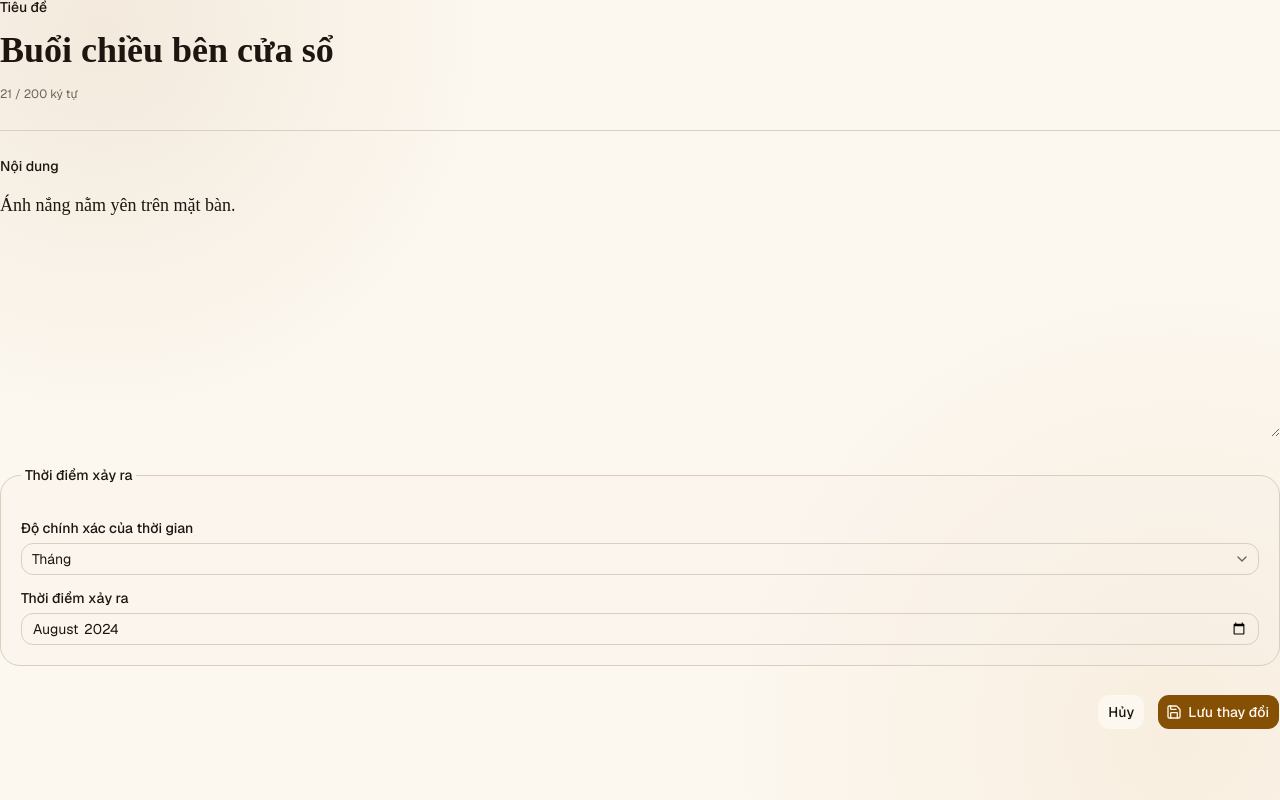
Test: MemoryEditor › loads the latest revision without relying on router refresh
Click the button "Lưu thay đổi" at (1219, 712), box [1157,694,1279,730]
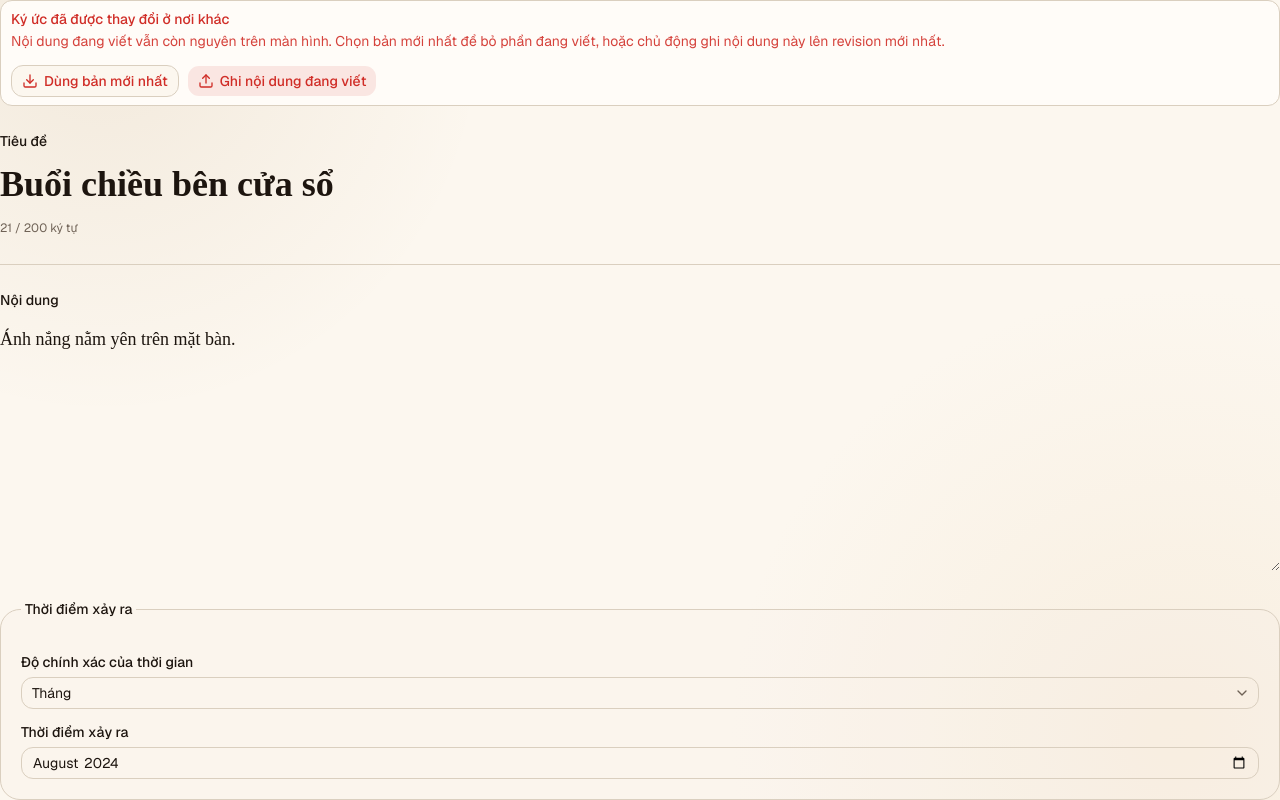
Result: the heading "Ký ức đã được thay đổi ở nơi khác" is shown at [11,10,229,28]
Result: the button "Dùng bản mới nhất" is enabled
Click the button "Dùng bản mới nhất" at (95, 81), box [11,65,179,97]
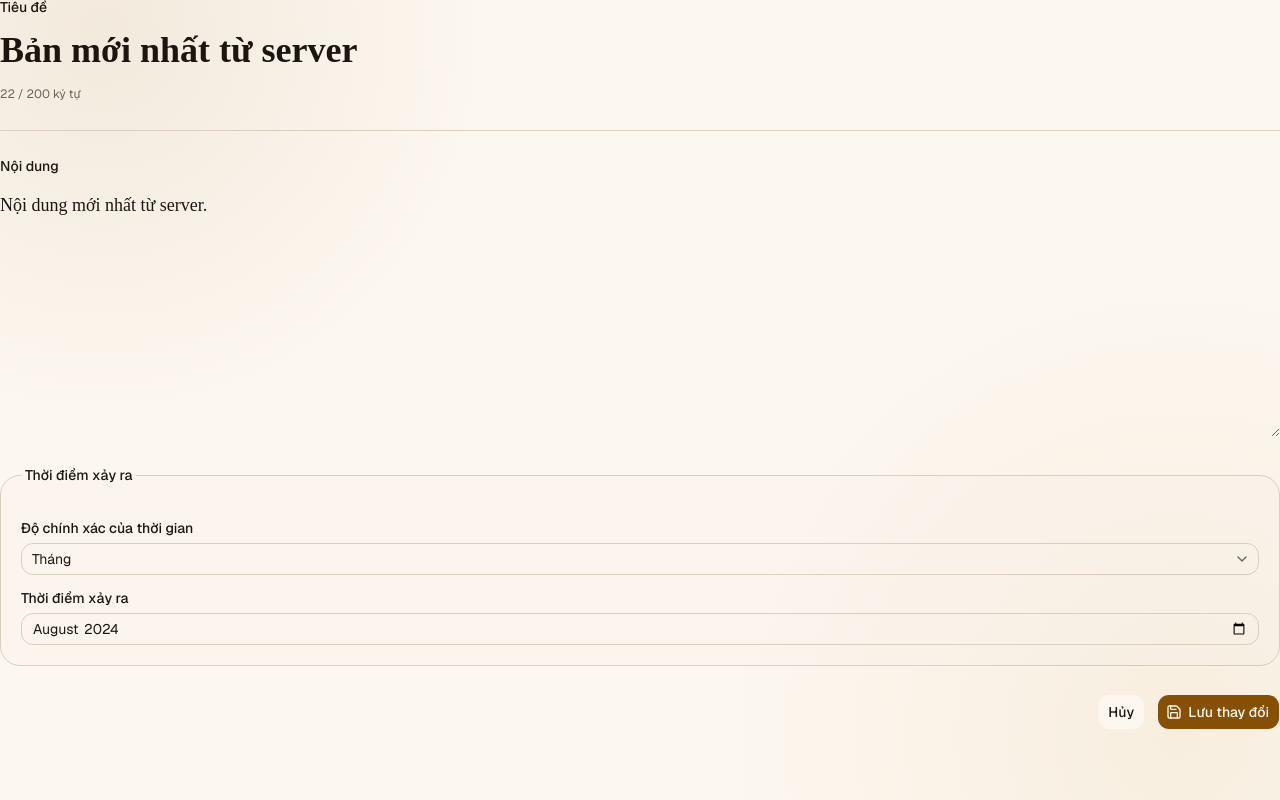
Result: the field labelled "Tiêu đề" holds "Bản mới nhất từ server" at [0,22,1279,78]
Result: the text box labelled "Nội dung" holds "Nội dung mới nhất từ server." at [0,181,1279,437]
